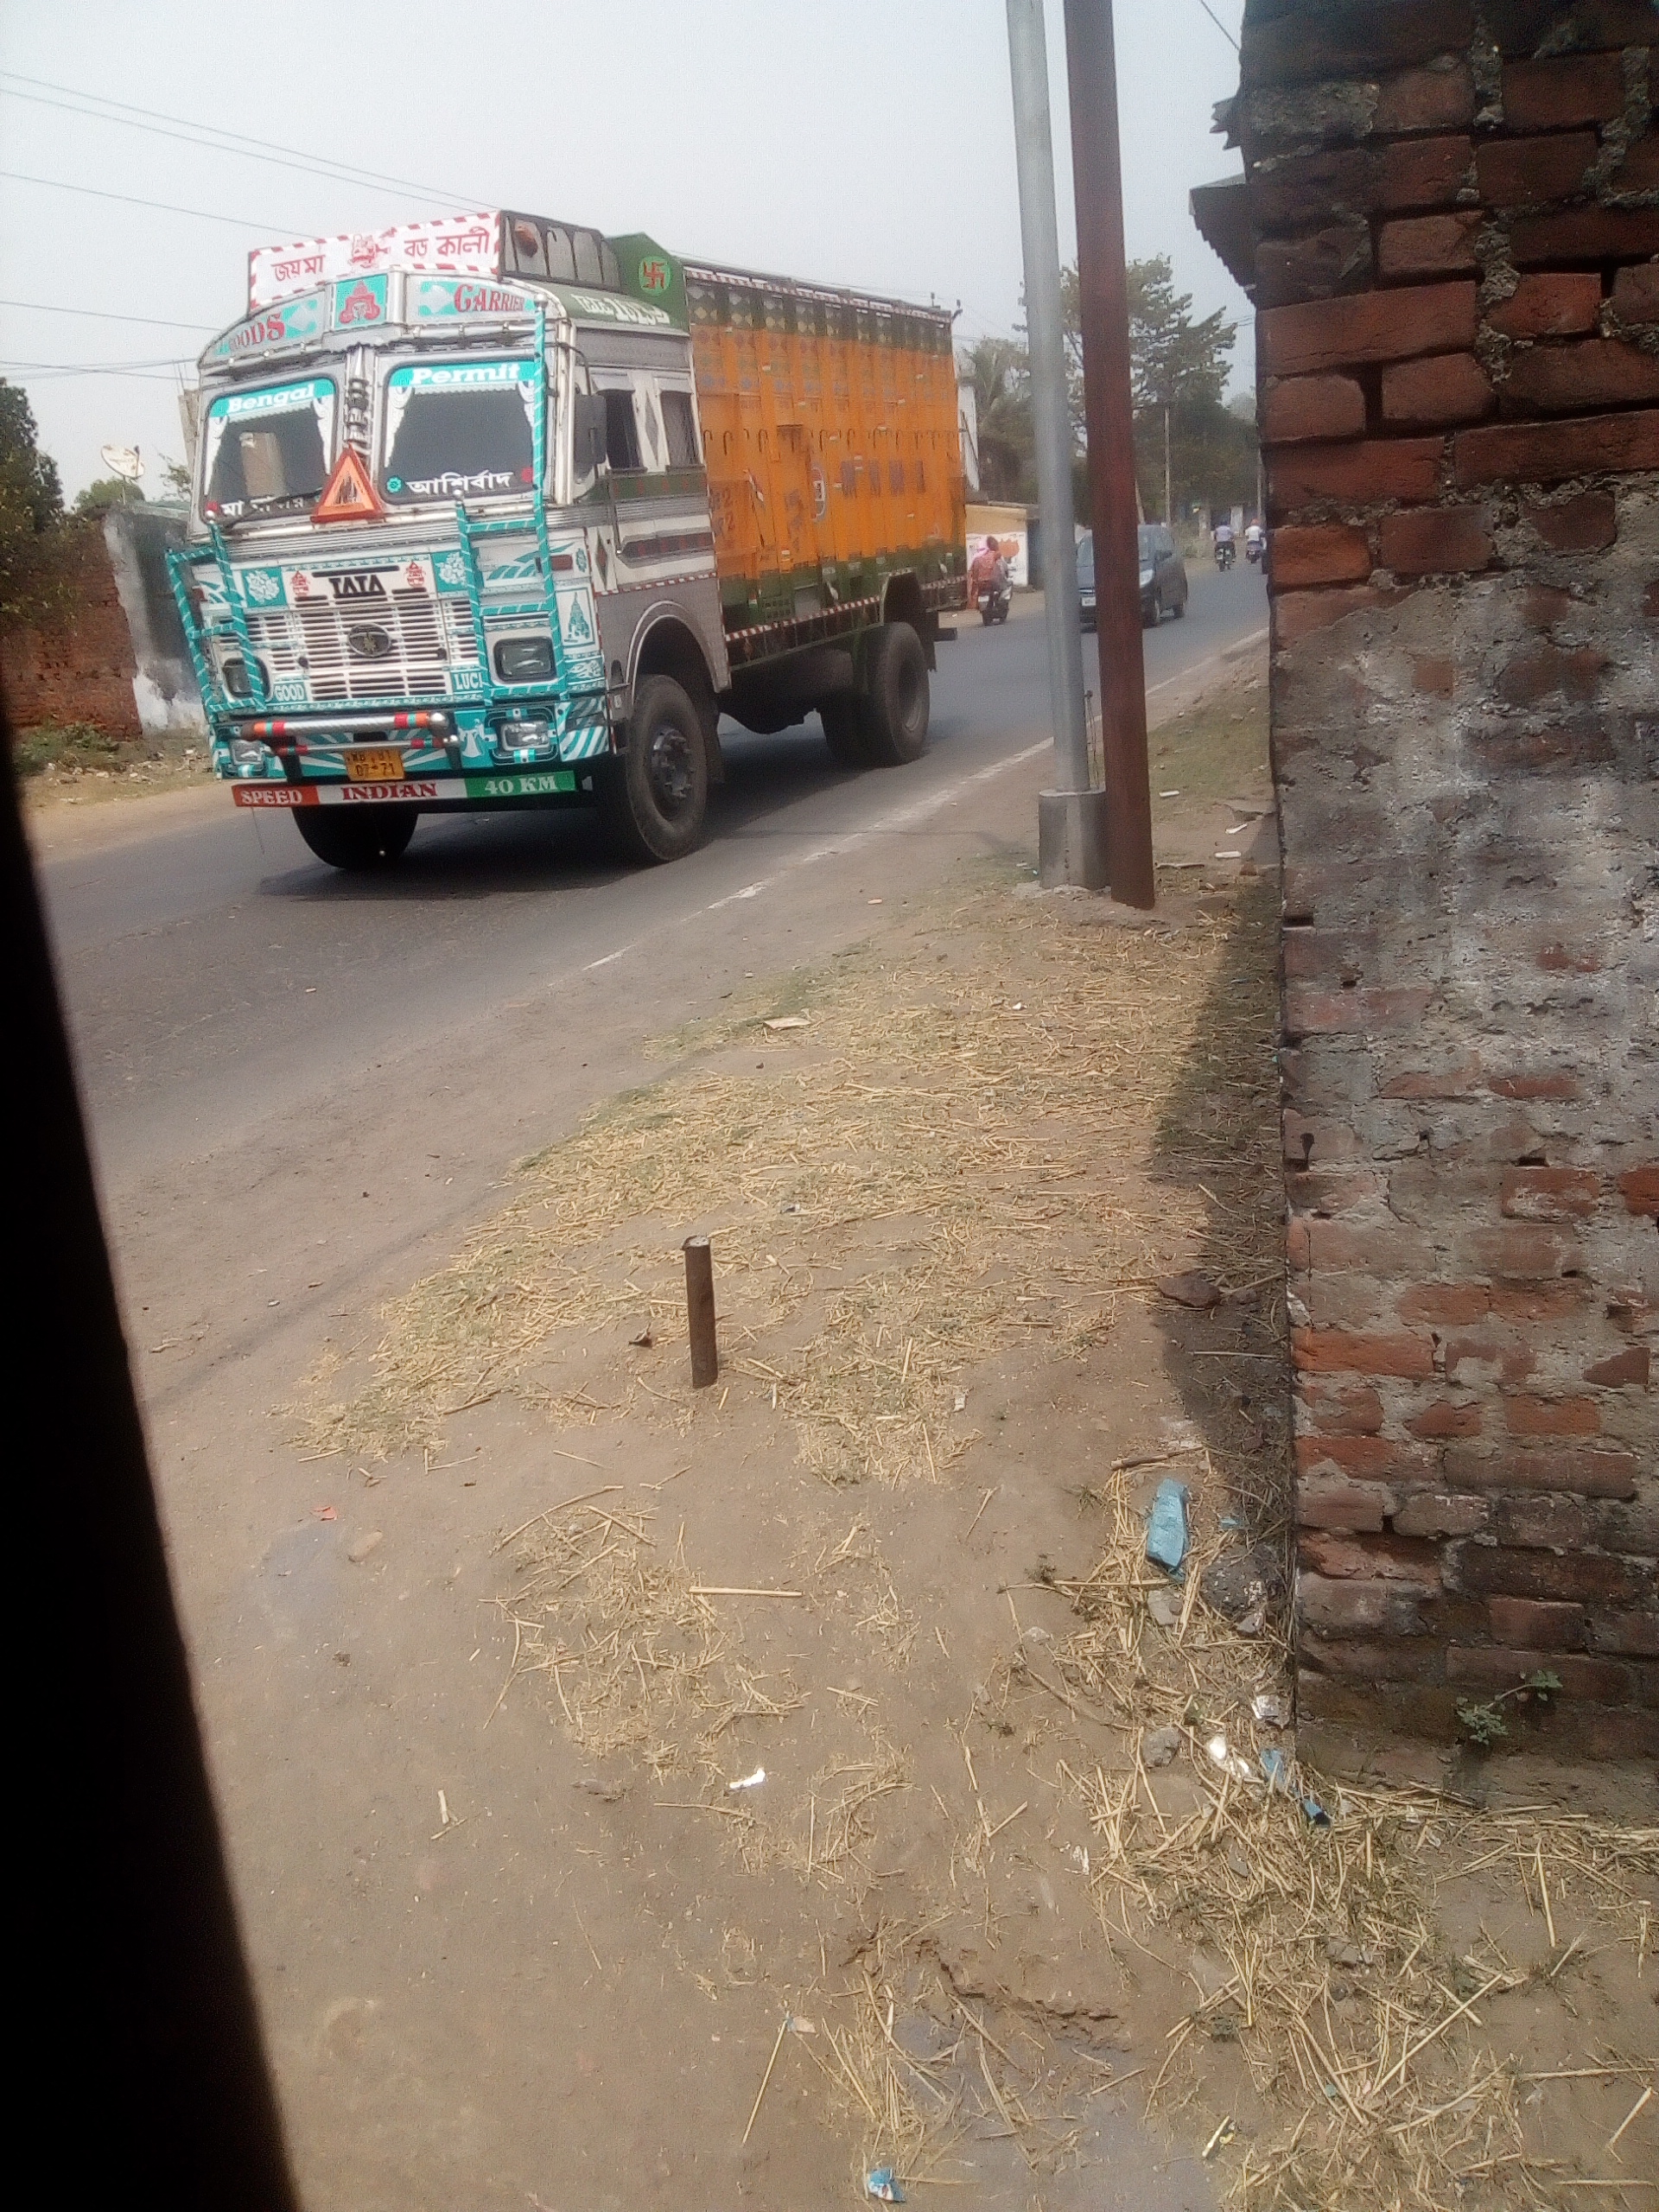truck: (160, 206, 972, 873)
